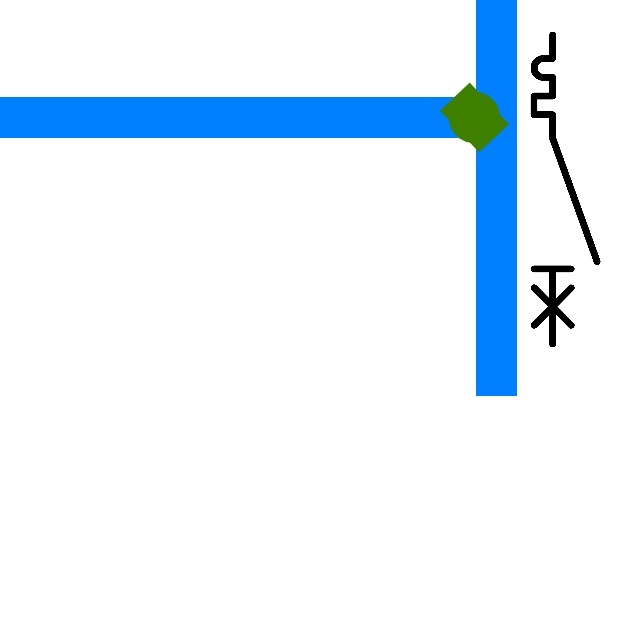interruptor_termomagnetico: (526, 27, 605, 352)
